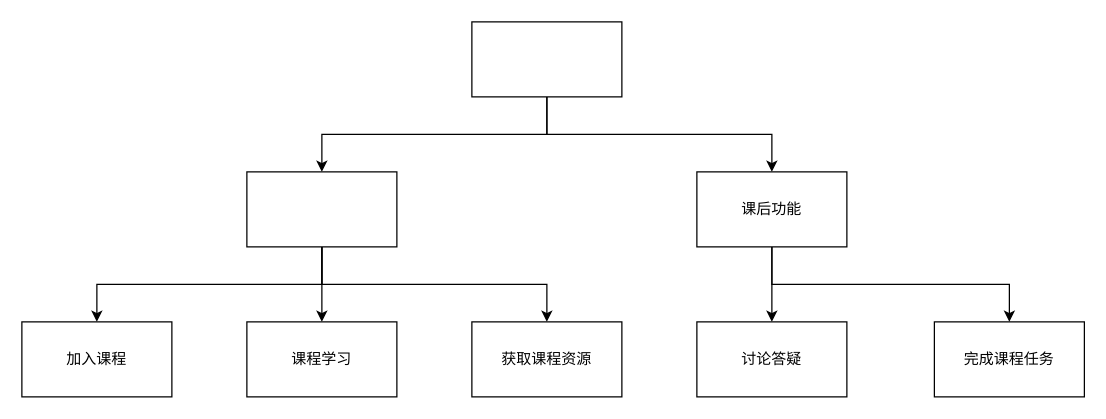
Image size: 1106x419. Some labels were removed from this diagram. The centre of each missing label's shape, as x and y in pixels:
"学生功能模块" belongs at [546,59].
"课程功能" belongs at [321,209].
